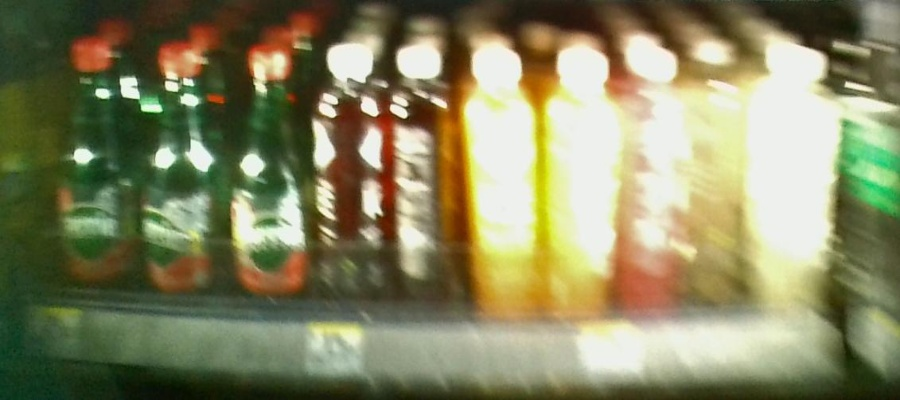bottle: (51, 35, 134, 297), (753, 45, 836, 306), (546, 40, 621, 321), (224, 40, 305, 298), (311, 34, 387, 301), (461, 40, 534, 317), (138, 39, 216, 298), (626, 44, 688, 312), (393, 48, 454, 304), (694, 42, 744, 308)
